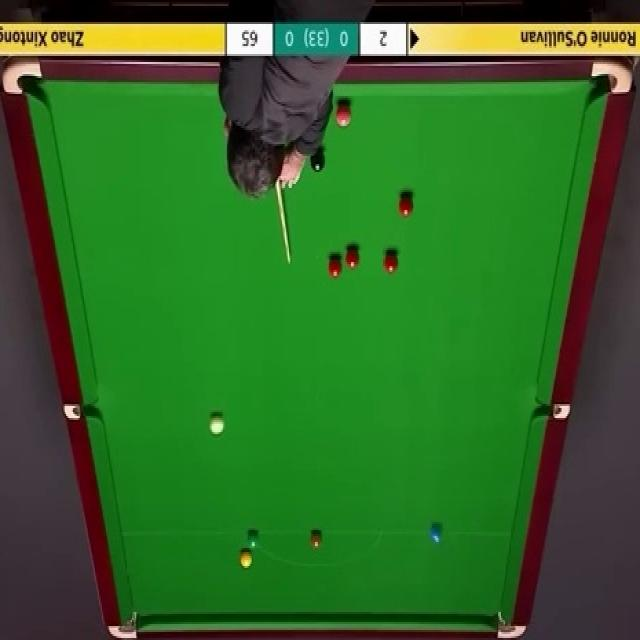pocket: (1, 55, 43, 97), (589, 57, 635, 95), (108, 608, 140, 640), (493, 611, 528, 640), (536, 403, 572, 420), (64, 405, 99, 420)
